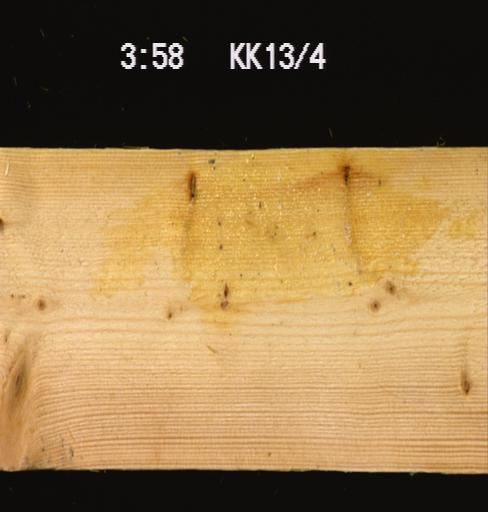small_knot: (0, 276, 59, 340), (0, 216, 4, 233)
